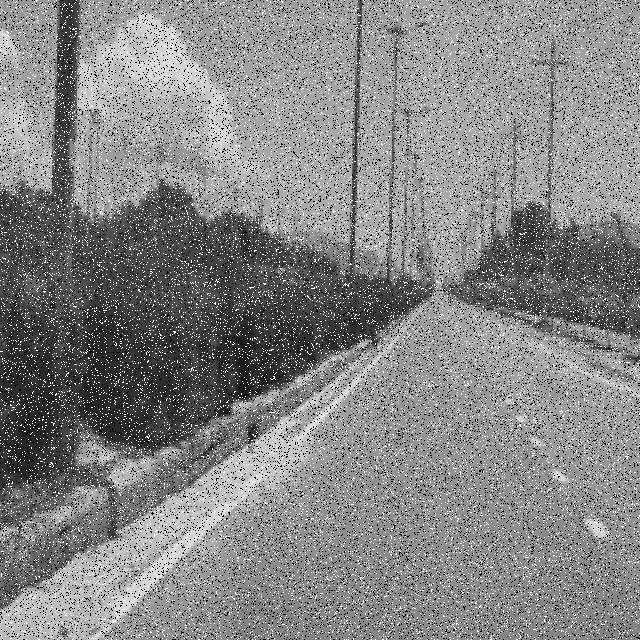clear-road: (102, 300, 640, 640)
